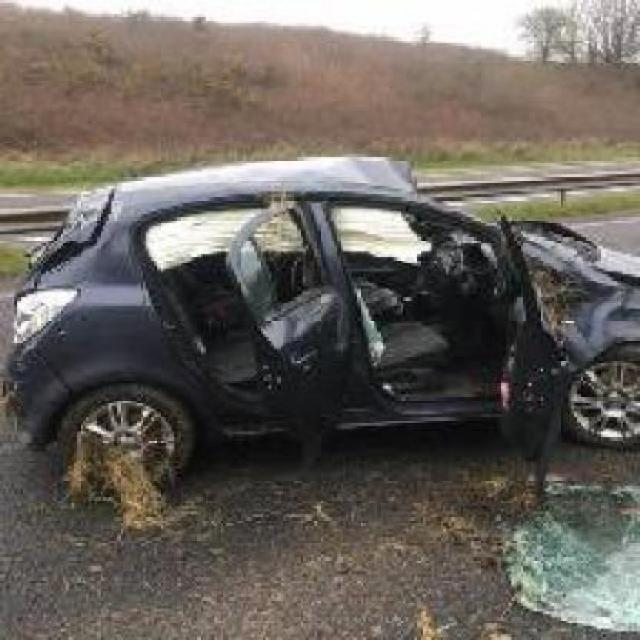damaged-door: (329, 196, 563, 458), (161, 210, 350, 422)
